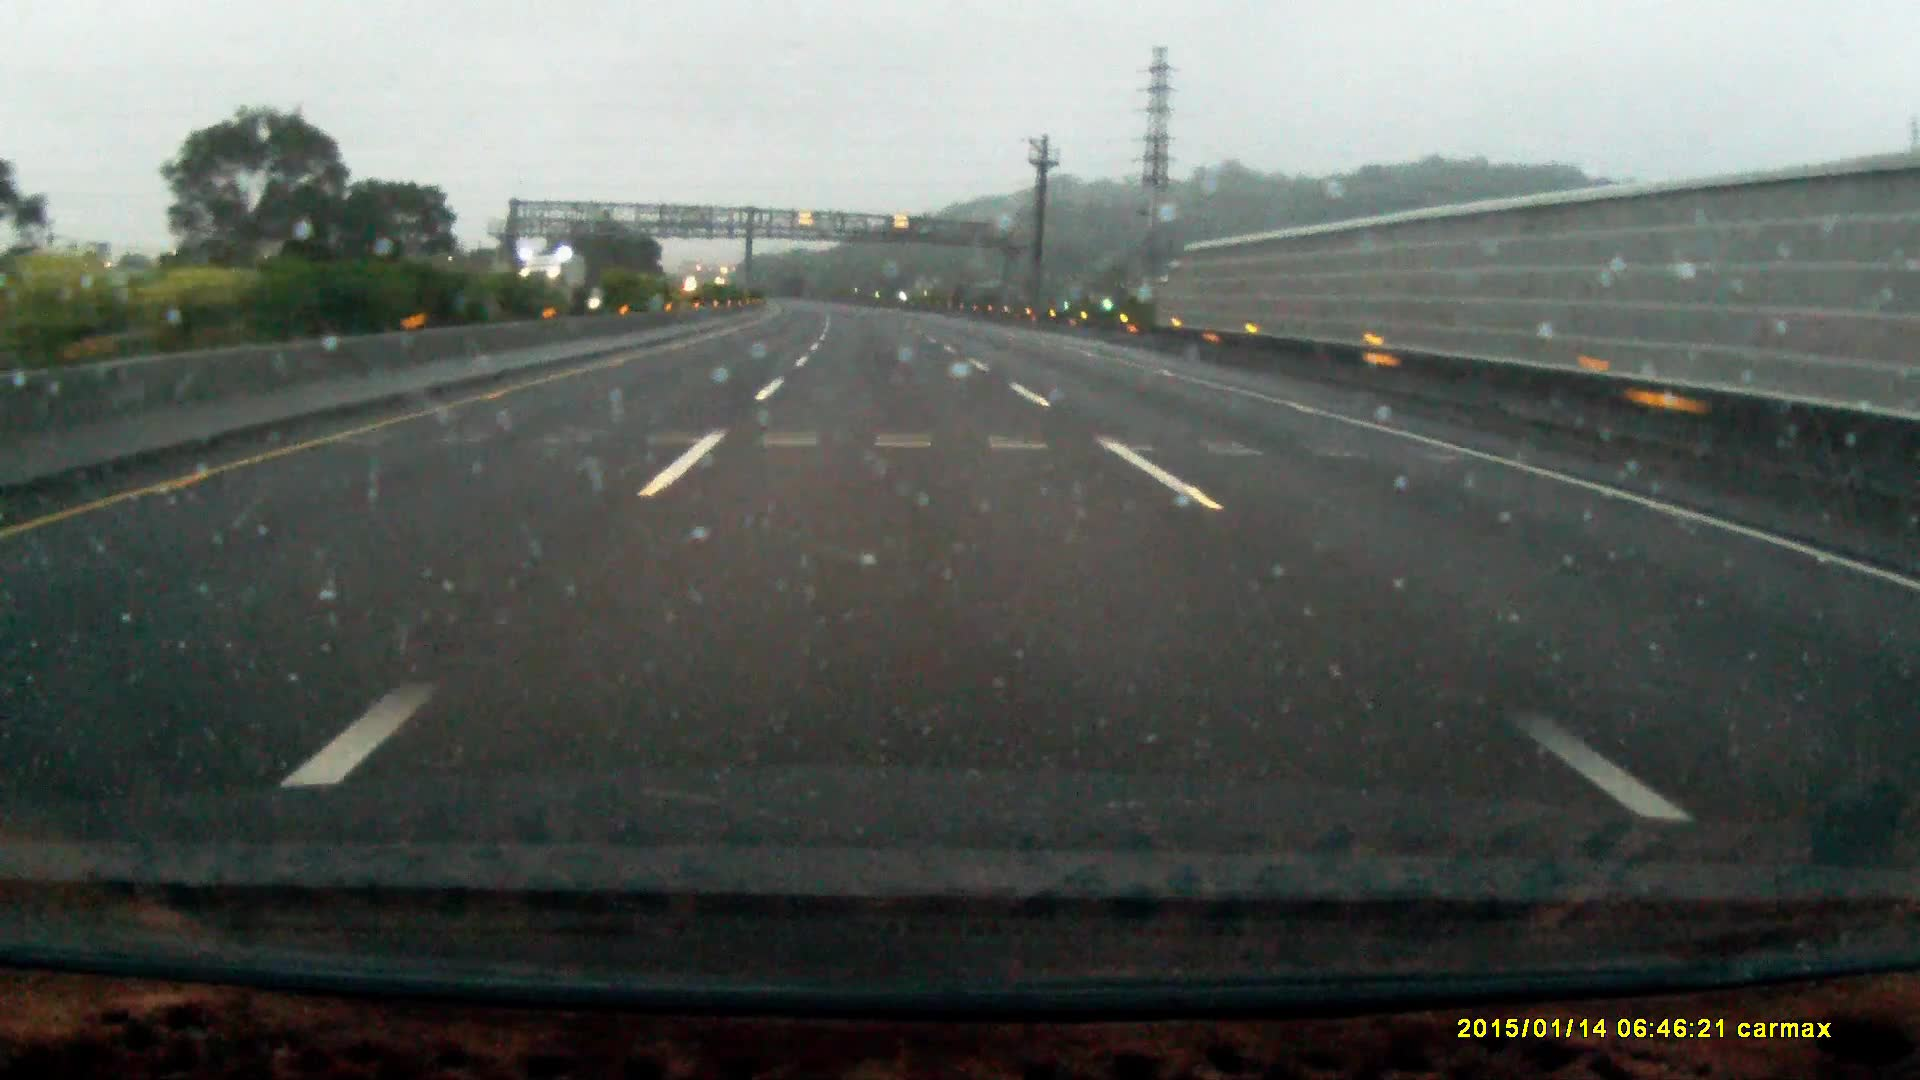vehicle: (518, 258, 585, 318)
